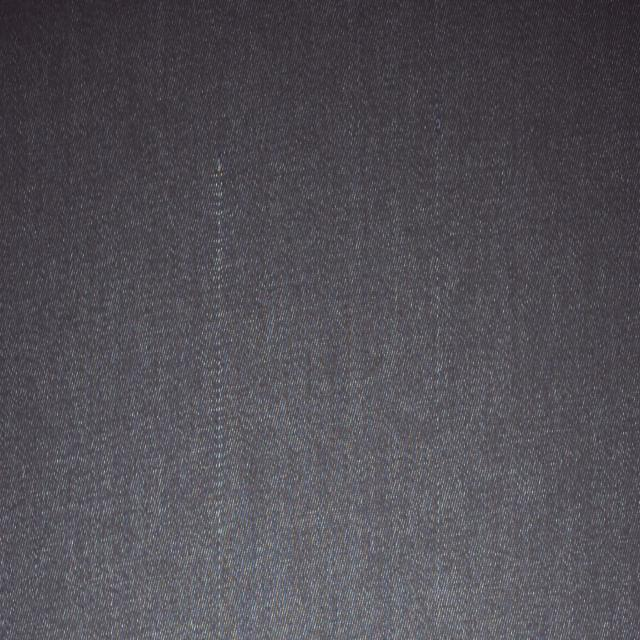pulled_or_thick_thread: (426, 118, 454, 634), (211, 155, 229, 637)
